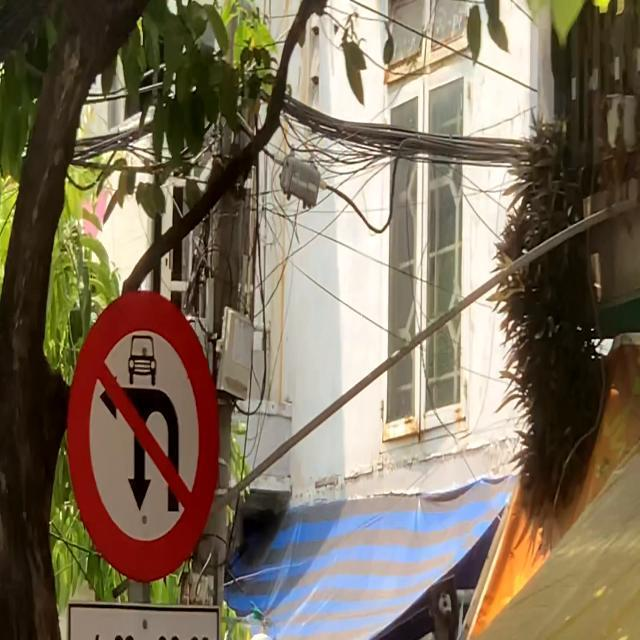124c-cam-re-trai-va-cam-quay-dau-xe: (68, 290, 216, 584)
